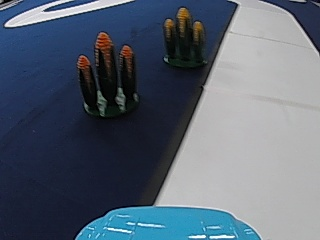corn: (78, 31, 140, 119), (161, 4, 207, 69)
